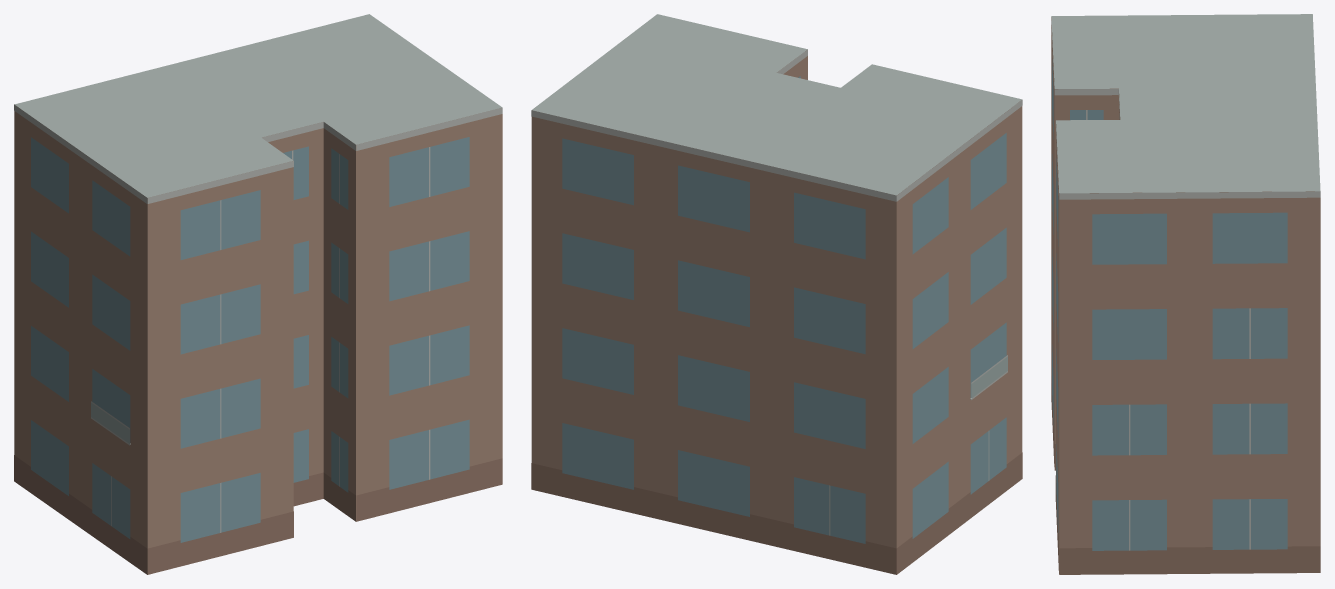
The model's file is survey-upis-32712435.glb.
The picture shows the model from 3 angles, left to right: view 1: azimuth 30°, elevation 25°; view 2: azimuth 150°, elevation 25°; view 3: azimuth 270°, elevation 25°; orthographic projection.
Parts seen in each view (by area): view 1: survey-upis-32712435.tmp; view 2: survey-upis-32712435.tmp; view 3: survey-upis-32712435.tmp.
Boxes of the visible parts, bbox=[...] form: survey-upis-32712435.tmp: bbox=[14, 14, 502, 574]; survey-upis-32712435.tmp: bbox=[531, 14, 1022, 574]; survey-upis-32712435.tmp: bbox=[1051, 14, 1320, 574].
Bounding box in the file's own units: 14.73 × 14.6 × 9.34.
